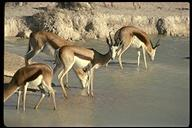antelope: (52, 30, 123, 99), (4, 62, 57, 111), (113, 25, 161, 69), (24, 31, 76, 69)
water: (101, 73, 188, 123)
